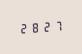eight: (29, 20, 39, 34)
seven: (51, 19, 61, 32)
two: (18, 21, 28, 34), (40, 20, 50, 33)
